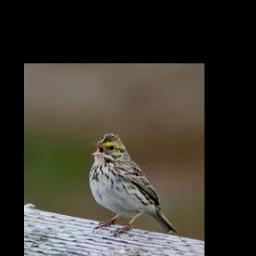Sparrow: (87, 128, 176, 239)
